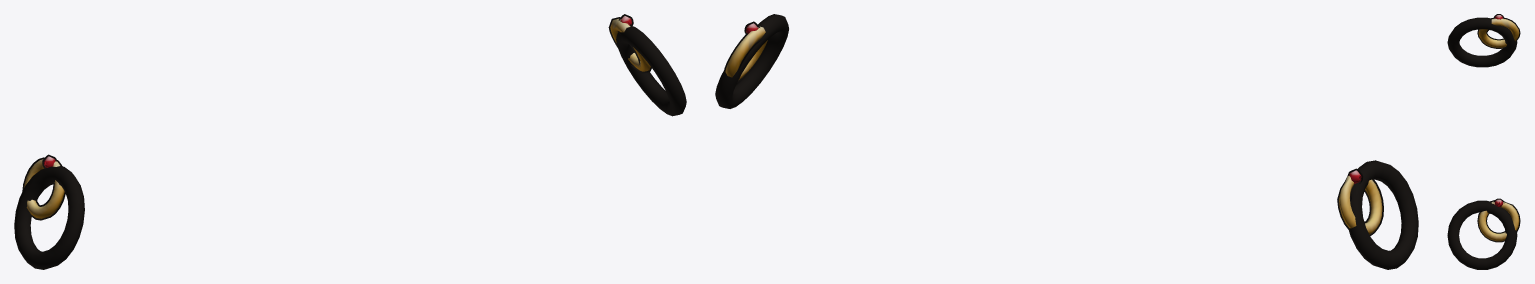
The model's file is earring_double_male_lo.glb.
3 renders of one model, left to right at view 1: azimuth 30°, elevation 25°; view 2: azimuth 150°, elevation 25°; view 3: azimuth 270°, elevation 25°, orthographic. The views are drawn at different scales.
Parts seen in each view (by area): view 1: earring_double_male_hi; view 2: earring_double_male_hi; view 3: earring_double_male_hi.
Part boxes in pixels (x1=…): earring_double_male_hi: x1=14, y1=14, x2=686, y2=269; earring_double_male_hi: x1=715, y1=14, x2=1418, y2=269; earring_double_male_hi: x1=1447, y1=14, x2=1520, y2=269.
Size of the model in its own units: 0.4749 by 0.0657 by 0.0708.
